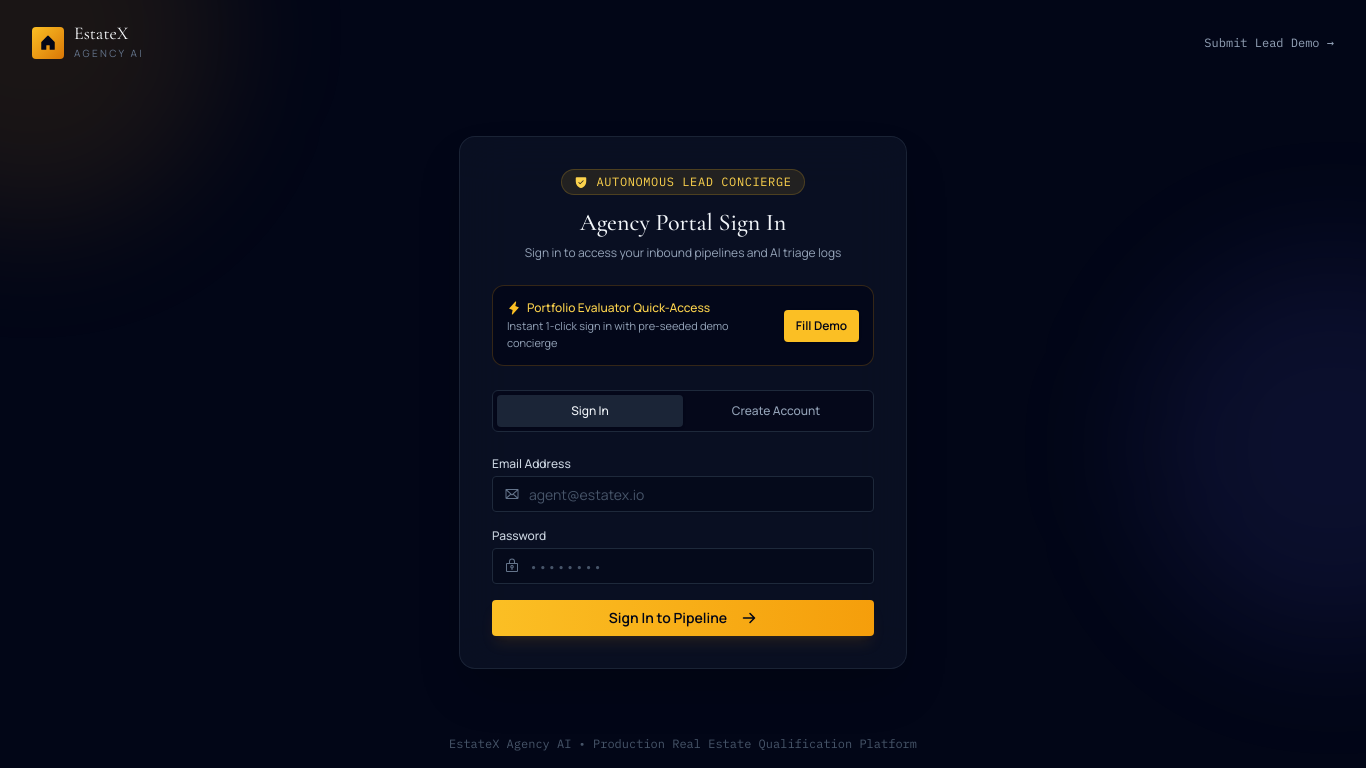
Scenario: Login Component › switches between sign in and register tabs
Click the button with test id "tab-register".
click(776, 411)  # box [683, 395, 869, 427]
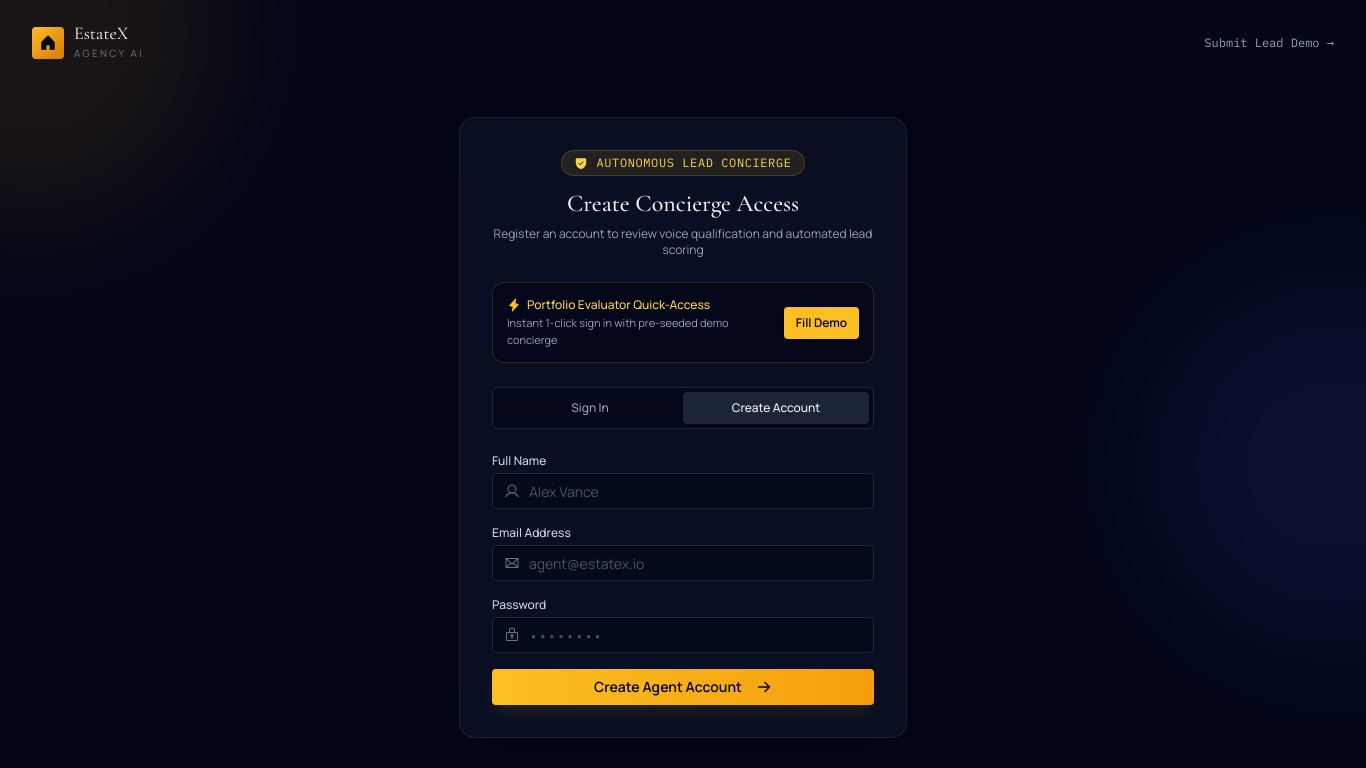
Check: the field with test id "input-name" is shown, box [492, 473, 874, 509]
Check: the heading "Create Concierge Access" is shown, box [567, 189, 799, 218]
Click the button with test id "tab-sign-in".
click(590, 408)  # box [497, 392, 683, 424]
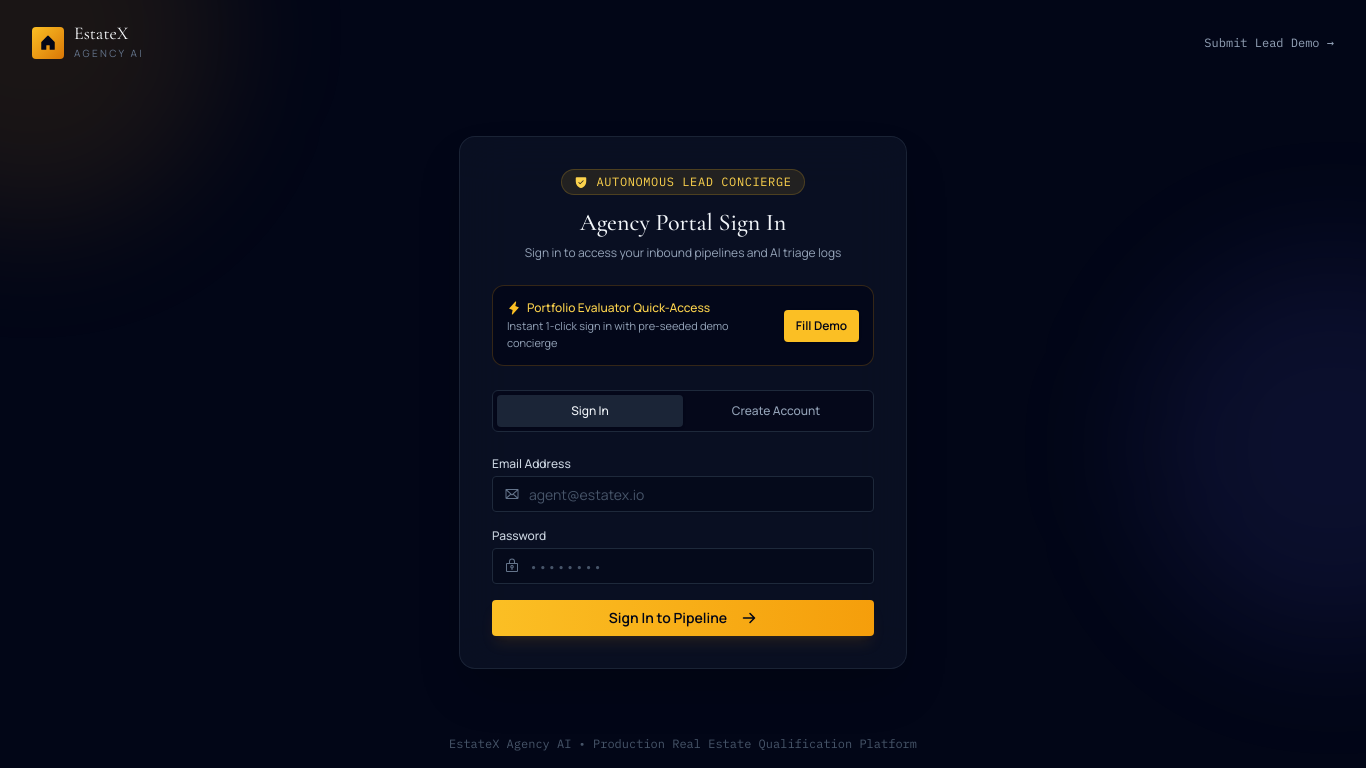
Check: the field with test id "input-name" is gone
Check: the heading "Agency Portal Sign In" is shown, box [580, 208, 786, 237]
